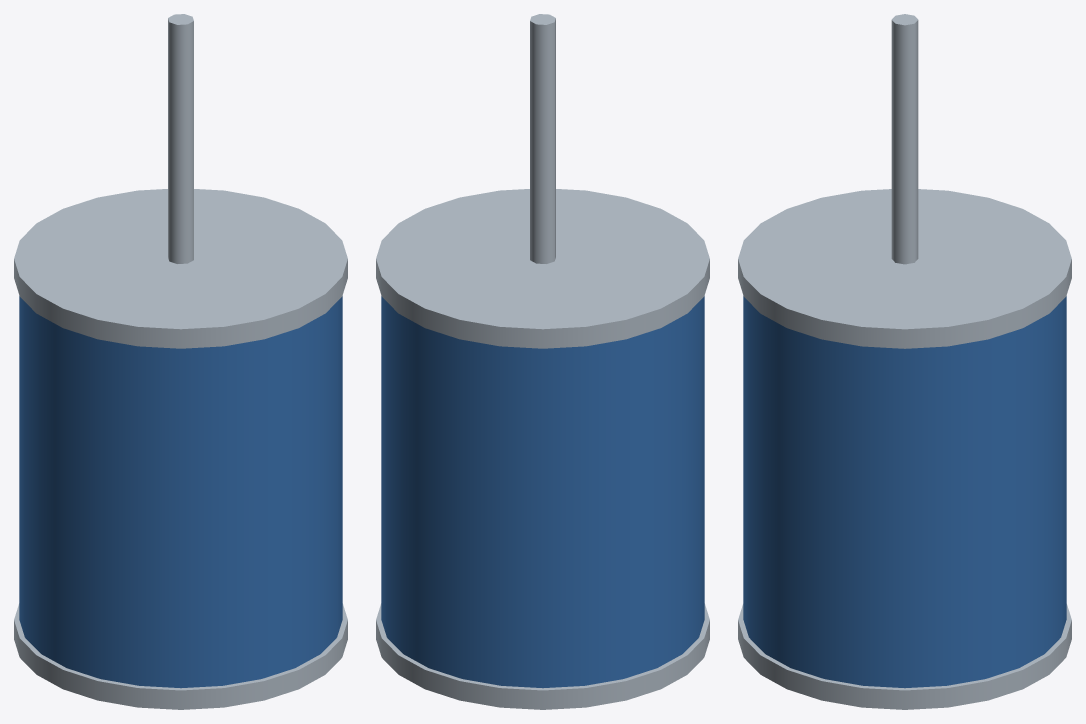
Rendered from capacitor.glb.
The picture shows the model from 3 angles, left to right: view 1: azimuth 30°, elevation 25°; view 2: azimuth 150°, elevation 25°; view 3: azimuth 270°, elevation 25°; orthographic projection.
Size of the model in its own units: 0.62 by 1.27 by 0.62.
